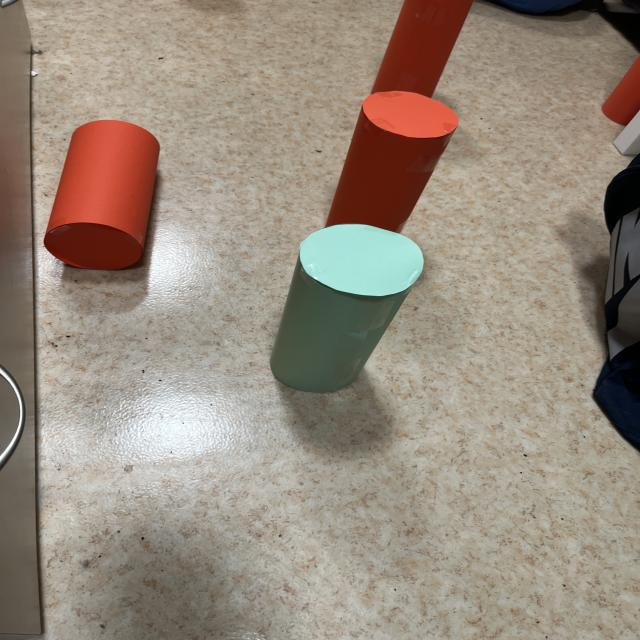meta: (270, 224, 424, 392)
przeszkoda: (325, 91, 458, 231), (44, 120, 159, 270)
